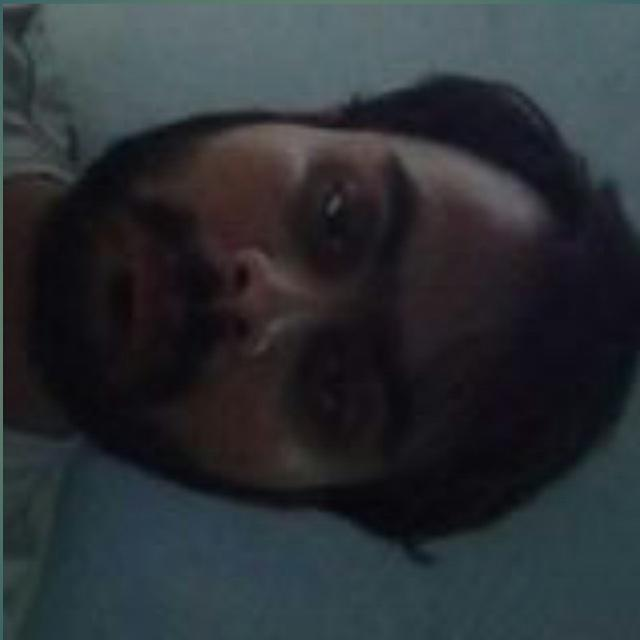Natural: (93, 117, 558, 517)
